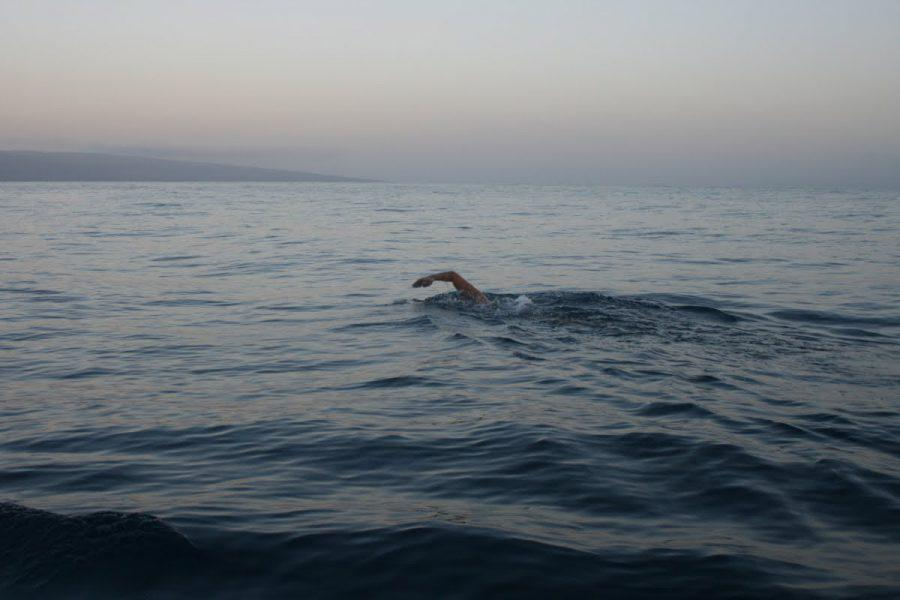human: (406, 263, 537, 315)
